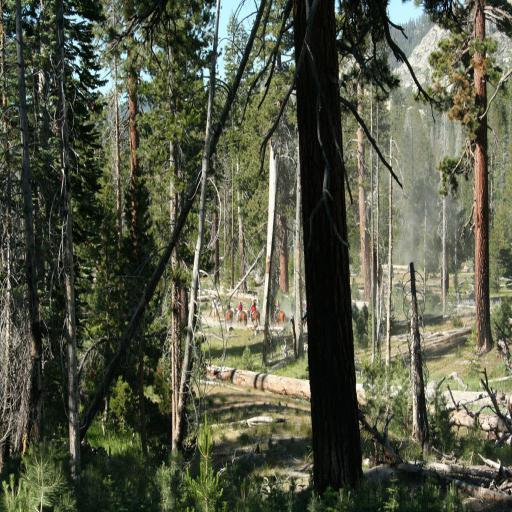horse: (270, 306, 286, 326), (249, 305, 262, 328), (236, 310, 248, 328), (223, 306, 233, 326)
